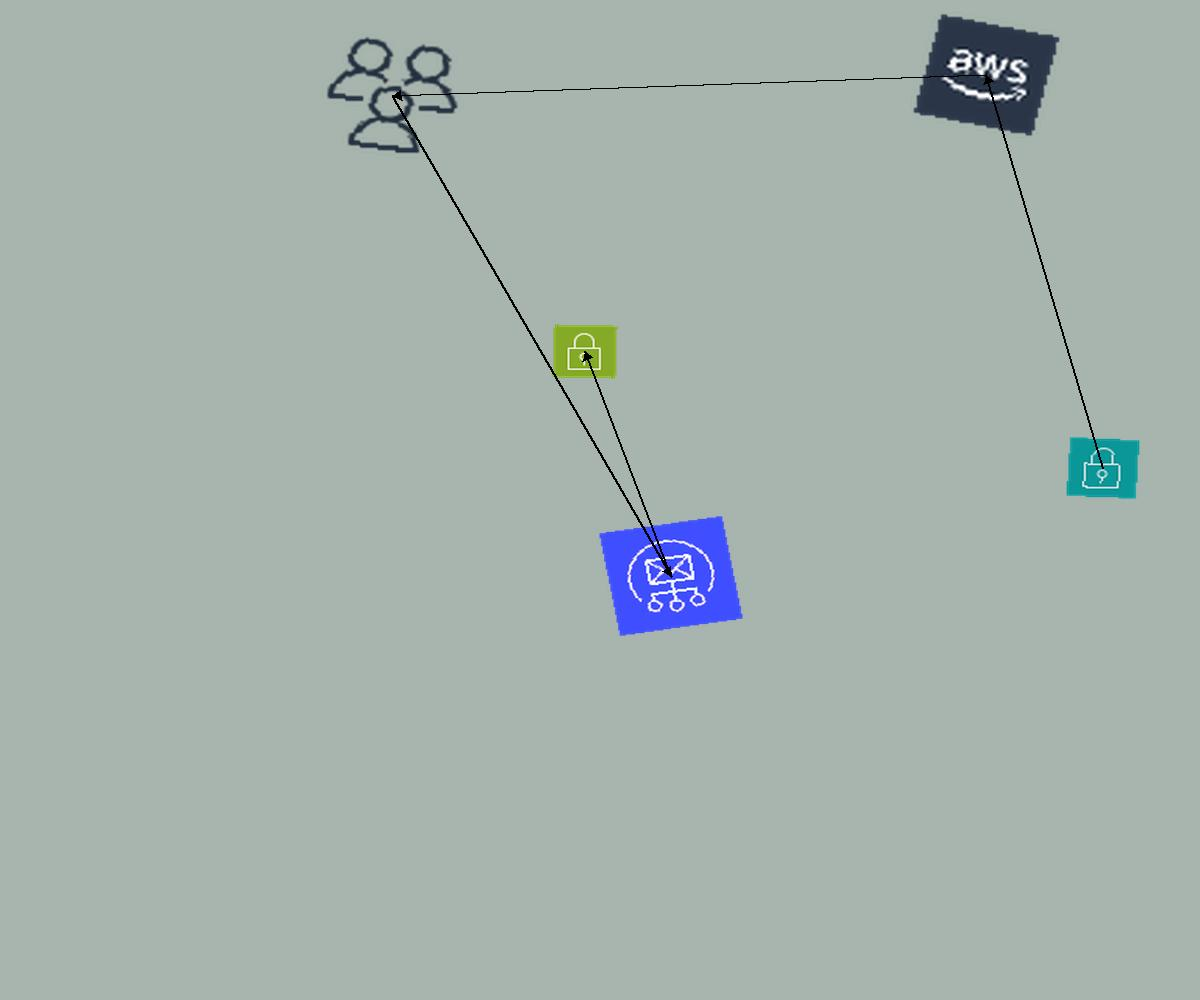AWS-Cloud-logo: (911, 12, 1062, 138)
AWS-Private-subnet: (1065, 436, 1141, 500)
AWS-Public-subnet: (552, 324, 618, 379)
AWS-Res_Users: (310, 27, 475, 165)
AWS-Simple-Email-Service: (598, 515, 744, 637)
